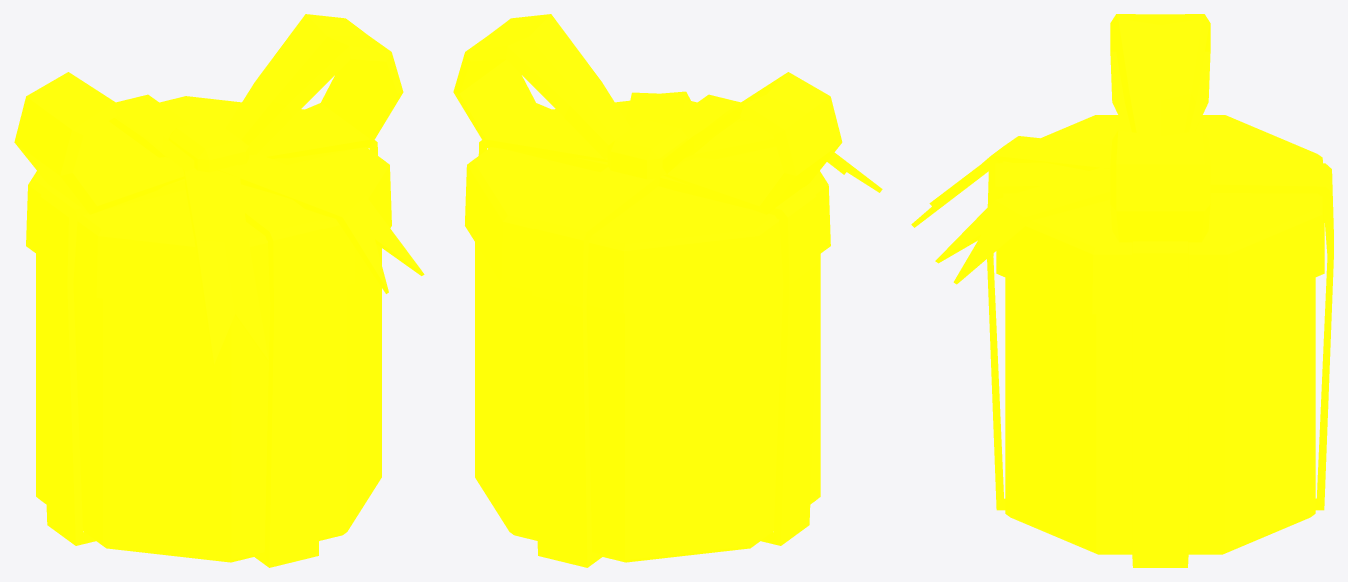
The model's file is gift-christmas-cylinde-d.glb.
The picture shows the model from 3 angles, left to right: view 1: azimuth 30°, elevation 25°; view 2: azimuth 150°, elevation 25°; view 3: azimuth 270°, elevation 25°; orthographic projection. The views are drawn at different scales.
Parts seen in each view (by area): view 1: gift_christmas_cylinde_d; view 2: gift_christmas_cylinde_d; view 3: gift_christmas_cylinde_d.
Boxes of the visible parts, x1=… form: gift_christmas_cylinde_d: x1=14, y1=14, x2=424, y2=567; gift_christmas_cylinde_d: x1=453, y1=14, x2=882, y2=567; gift_christmas_cylinde_d: x1=911, y1=14, x2=1333, y2=567.
Bounding box in the file's own units: 0.3038 × 0.3733 × 0.3367.
1 material, 1 textured.
